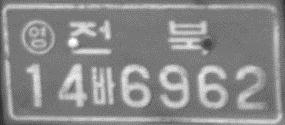1: (21, 61, 51, 108)
2: (236, 64, 269, 112)
4: (57, 63, 87, 107)
6: (197, 63, 228, 110), (119, 63, 151, 108)
9: (159, 63, 190, 111)
바: (90, 65, 117, 106)
영: (20, 19, 55, 55)
전북_D: (67, 19, 209, 57)
